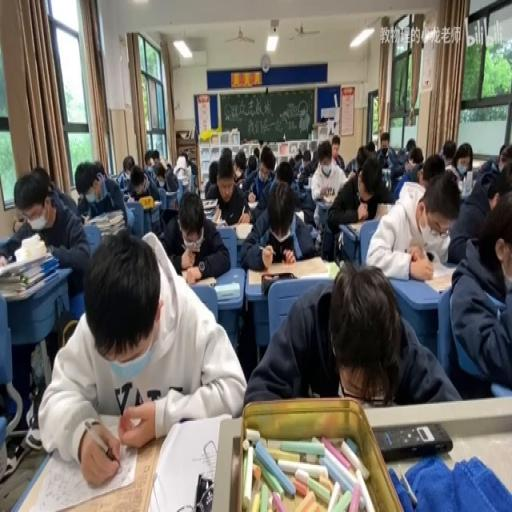calculator: (248, 254, 334, 286), (422, 257, 460, 293), (2, 272, 54, 298), (346, 214, 384, 238), (214, 282, 240, 300), (190, 273, 218, 286), (234, 222, 252, 240), (325, 260, 341, 280), (372, 202, 390, 219), (200, 196, 216, 212), (135, 199, 160, 209), (314, 196, 332, 209), (382, 166, 391, 190), (211, 205, 222, 222), (294, 208, 305, 224), (178, 175, 190, 186), (247, 199, 258, 209), (123, 194, 134, 204), (82, 213, 90, 225), (305, 176, 310, 188)
paper: (41, 226, 244, 484), (246, 262, 458, 406), (446, 184, 512, 398), (2, 165, 94, 290), (368, 168, 458, 280), (240, 175, 317, 266), (161, 188, 230, 278), (309, 138, 348, 230), (79, 158, 131, 226), (394, 145, 426, 196), (150, 156, 180, 194), (484, 142, 511, 176), (344, 141, 370, 176), (239, 149, 259, 192), (420, 153, 445, 185), (0, 232, 26, 262), (376, 132, 392, 166), (440, 138, 456, 168), (204, 160, 218, 194), (275, 158, 294, 183), (258, 145, 274, 174), (452, 151, 470, 175), (92, 159, 106, 179), (186, 156, 197, 180), (122, 154, 134, 174), (220, 145, 233, 162), (115, 172, 128, 189), (149, 148, 160, 165), (405, 138, 414, 158), (334, 154, 344, 170), (297, 168, 306, 183), (302, 150, 310, 164), (366, 141, 376, 151), (294, 150, 300, 164), (253, 148, 259, 161), (288, 155, 294, 165), (166, 159, 171, 168)
person: (373, 420, 453, 460), (194, 471, 214, 509), (426, 252, 432, 260)
